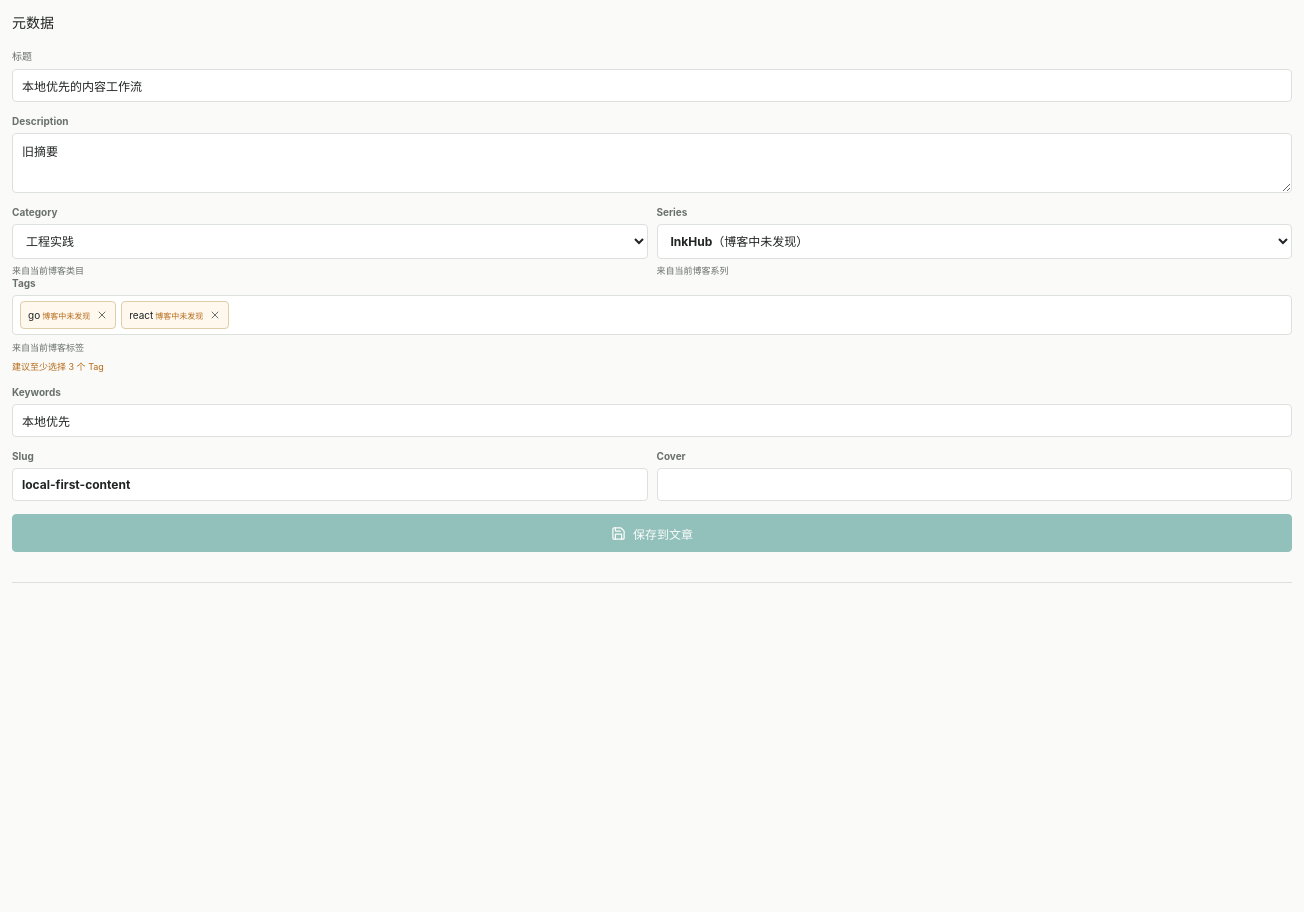
Test case: Category 从 Hugo 快照选择并进入文章草稿
This screenshot has width=1304, height=912.
Step 1. Select "产品" in the dropdown labelled "Category" → (330, 242), box [12,224,648,259]
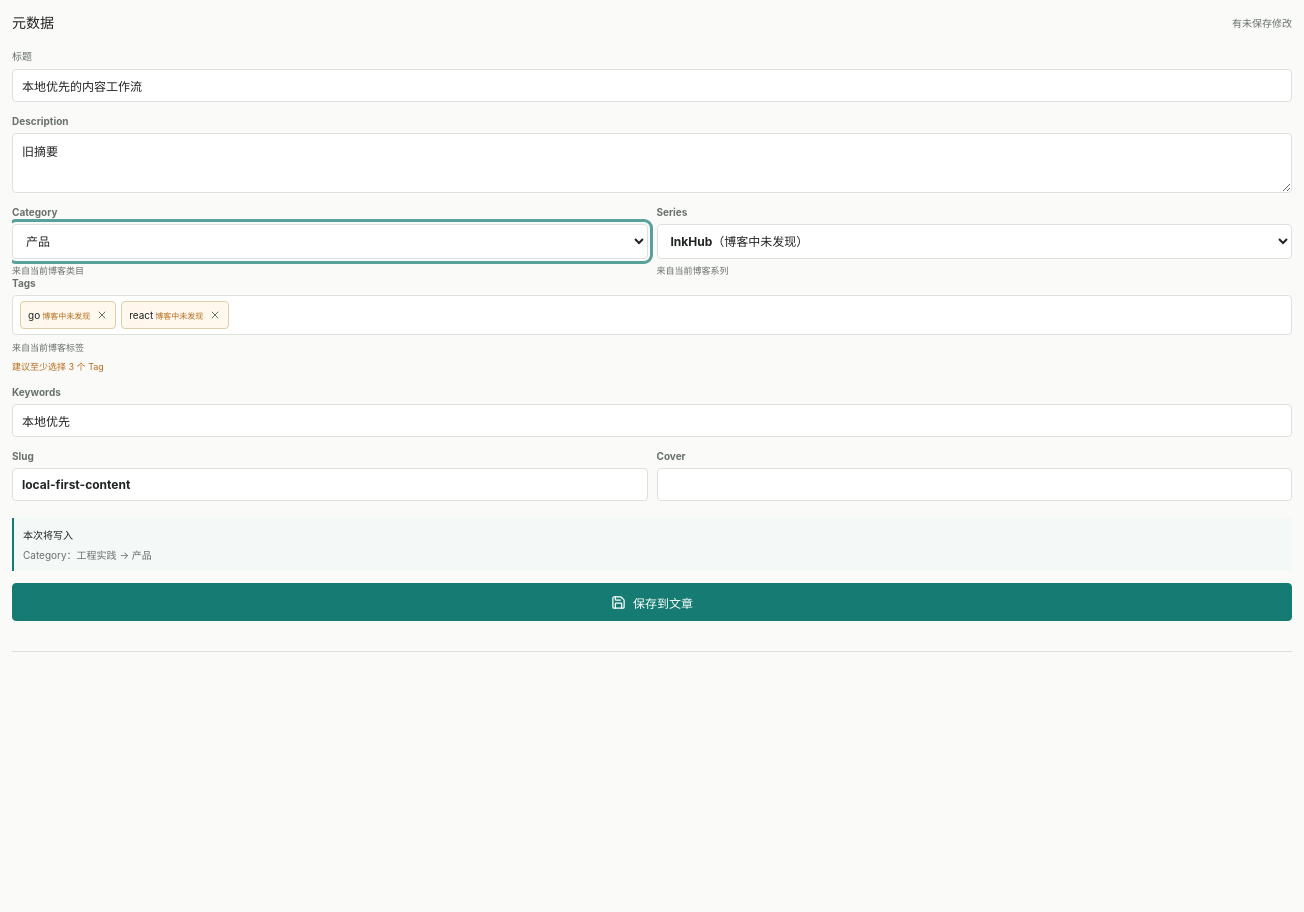
Now the text "Category：工程实践 → 产品" is shown, box [23,549,152,561]
